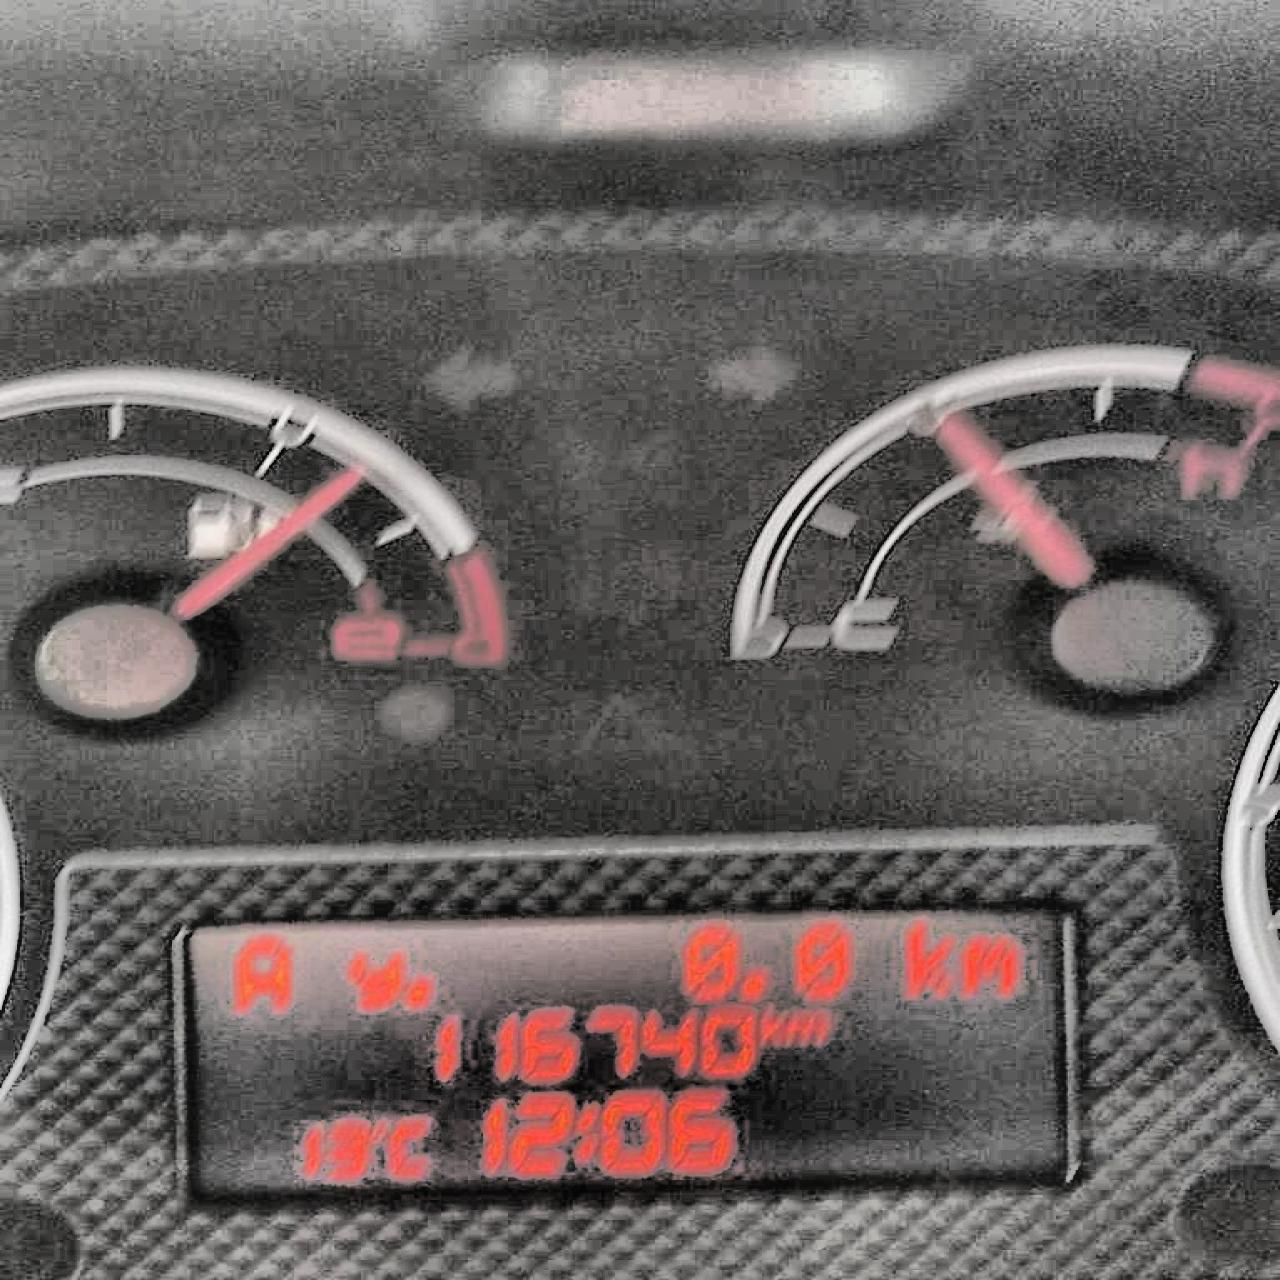-: (403, 973, 436, 1014), (741, 965, 774, 1002)
0: (600, 1085, 665, 1176), (674, 919, 741, 1002), (789, 919, 855, 1003), (700, 1002, 757, 1080)
1: (475, 1094, 504, 1178), (431, 1012, 461, 1083), (489, 1008, 515, 1083), (298, 1117, 321, 1183)
2: (506, 1089, 570, 1179)
3: (325, 1114, 368, 1184)
4: (640, 1005, 699, 1080)
6: (667, 1085, 734, 1175), (522, 1005, 579, 1084)
7: (581, 1002, 636, 1080)
X: (227, 930, 295, 1016), (896, 912, 953, 1002), (954, 930, 1026, 1000), (335, 944, 404, 1016), (388, 1114, 436, 1183), (785, 1008, 832, 1048), (572, 1099, 598, 1166), (757, 999, 785, 1050)
odometer: (163, 890, 1095, 1216)
